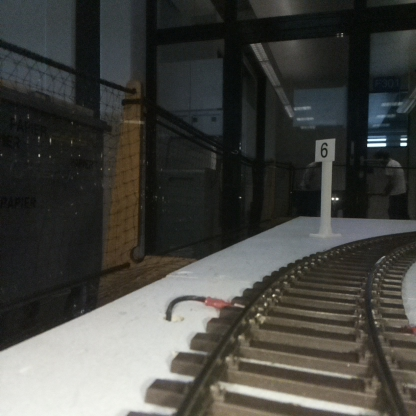white-info-6: (315, 138, 335, 236)
